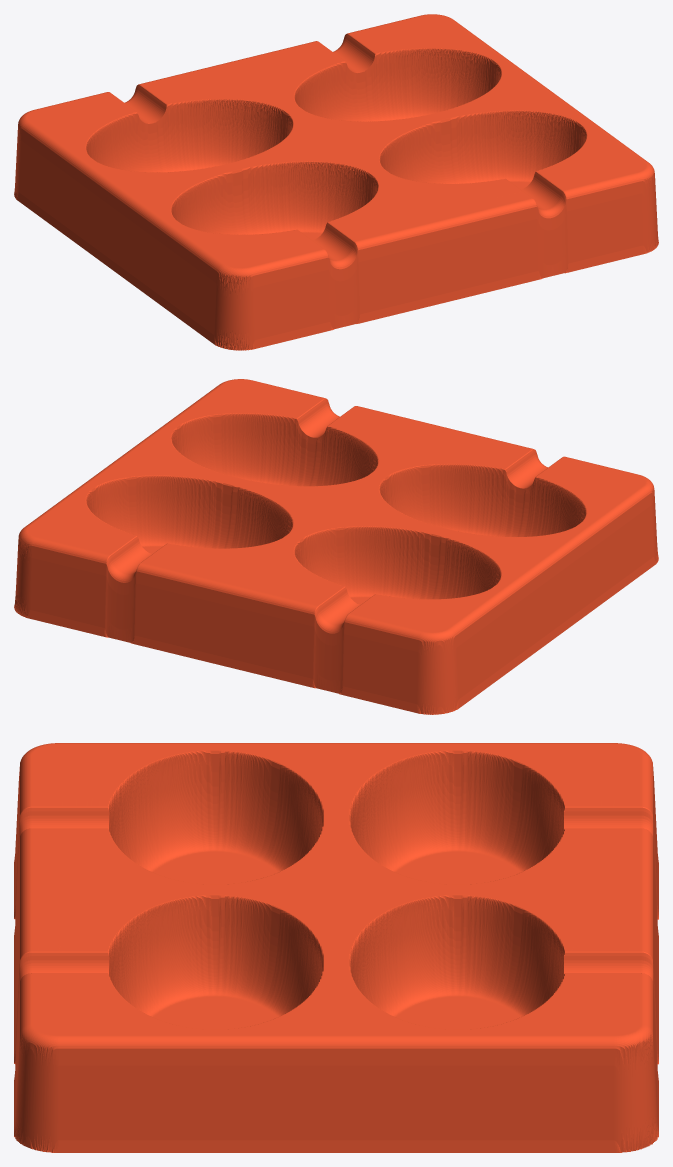
Rendered from mold.glb.
3 renders of one model, top to bottom at view 1: azimuth 30°, elevation 25°; view 2: azimuth 150°, elevation 25°; view 3: azimuth 270°, elevation 25°, orthographic. The views are drawn at different scales.
Visible parts, largest first — view 1: geometry_0; view 2: geometry_0; view 3: geometry_0.
Boxes of the visible parts, box(x1,y1,x2,y2) form: geometry_0: box(14, 14, 658, 350); geometry_0: box(14, 379, 658, 714); geometry_0: box(14, 743, 658, 1152).
Bounding box in the file's own units: 0.1468 × 0.0245 × 0.1305.
